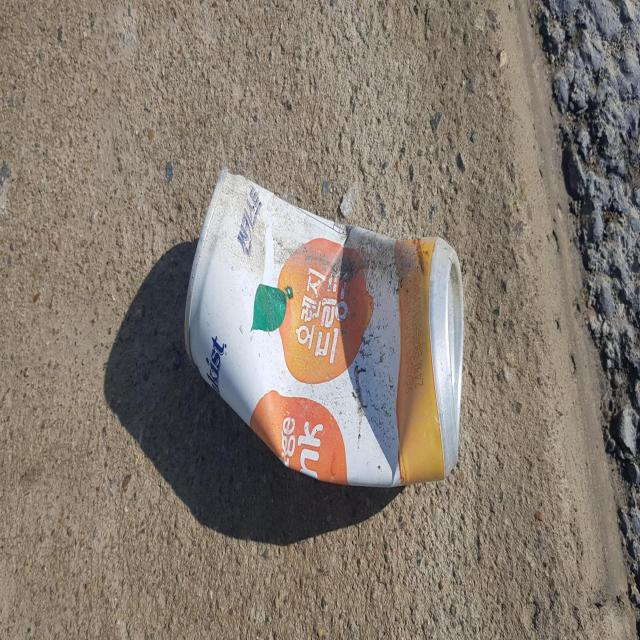can: (184, 168, 464, 486)
